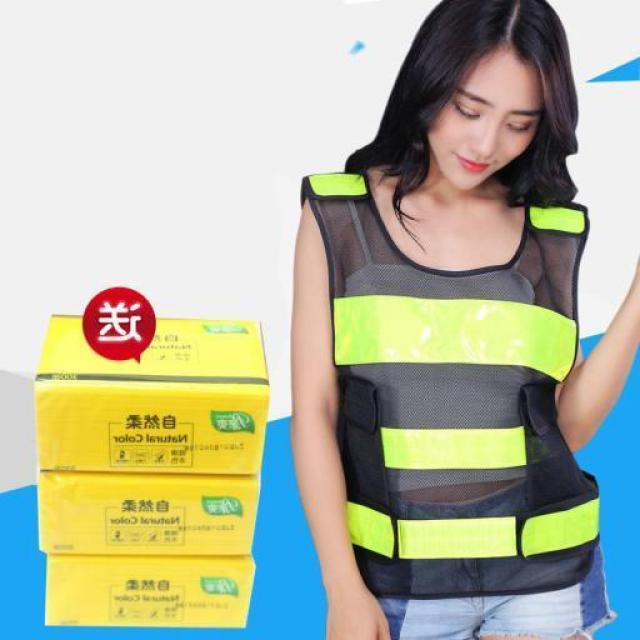vest: (308, 181, 593, 576)
